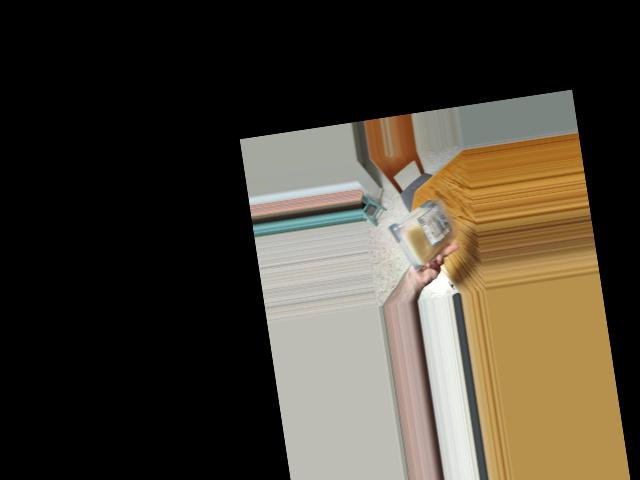cheese: (386, 197, 456, 257)
